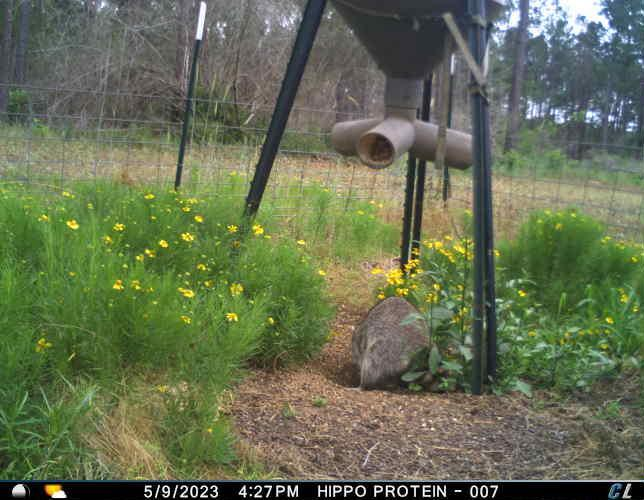Raccoon: (351, 294, 454, 396)
